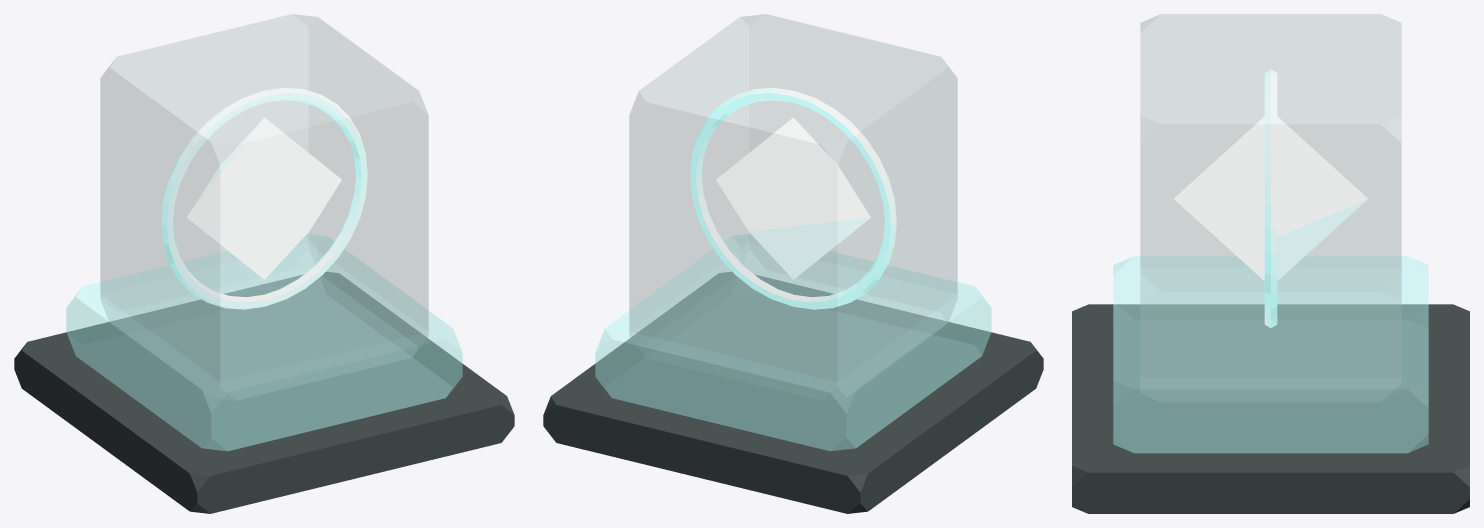
The model's file is outcome-marker.glb.
3 views of the same model, side by side, from view 1: azimuth 30°, elevation 25°; view 2: azimuth 150°, elevation 25°; view 3: azimuth 270°, elevation 25° (orthographic). The views are drawn at different scales.
Visible parts, largest first — view 1: Outcome_Frame, Outcome_Base, Outcome_Foundation, Outcome_Result, Outcome_Seal; view 2: Outcome_Frame, Outcome_Base, Outcome_Foundation, Outcome_Result, Outcome_Seal; view 3: Outcome_Frame, Outcome_Base, Outcome_Foundation, Outcome_Result, Outcome_Seal.
Boxes of the visible parts, x1,y1,x2,y2 form: Outcome_Frame: [100, 14, 428, 400]; Outcome_Base: [14, 272, 514, 513]; Outcome_Foundation: [66, 234, 462, 451]; Outcome_Result: [187, 117, 341, 279]; Outcome_Seal: [161, 87, 367, 309]; Outcome_Frame: [629, 14, 957, 400]; Outcome_Base: [543, 272, 1043, 513]; Outcome_Foundation: [595, 234, 991, 451]; Outcome_Result: [716, 117, 870, 279]; Outcome_Seal: [690, 87, 896, 309]; Outcome_Frame: [1140, 14, 1401, 401]; Outcome_Base: [1072, 304, 1469, 513]; Outcome_Foundation: [1113, 256, 1428, 453]; Outcome_Result: [1174, 116, 1367, 280]; Outcome_Seal: [1264, 69, 1277, 327].
Bounding box in the file's own units: 1.92 × 1.92 × 1.92.
